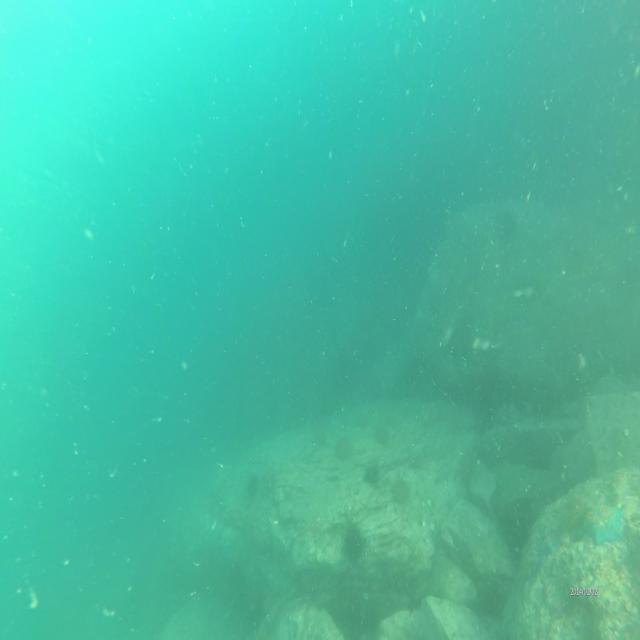echinus: (339, 524, 364, 558), (394, 473, 408, 509), (242, 476, 258, 506), (362, 457, 379, 485), (334, 438, 352, 462), (260, 471, 276, 494), (375, 424, 391, 445), (310, 428, 326, 443)
starfish: (578, 501, 627, 543)
